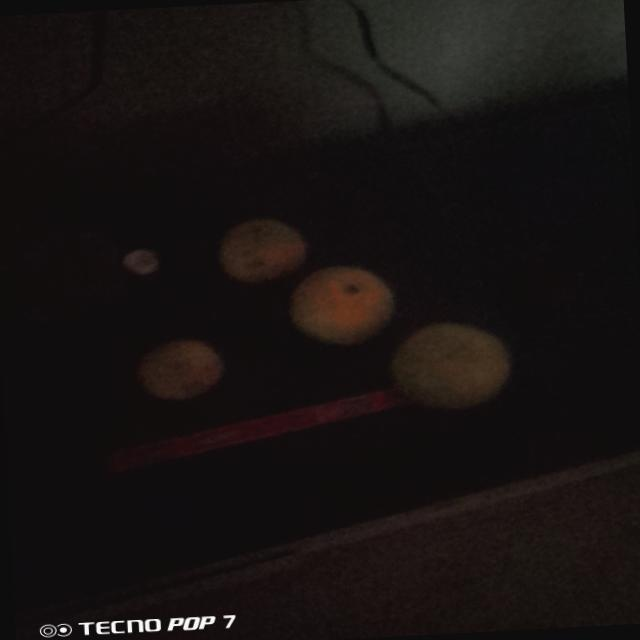agrume: (384, 311, 527, 406), (290, 259, 394, 353), (216, 209, 300, 293), (140, 335, 216, 401)
